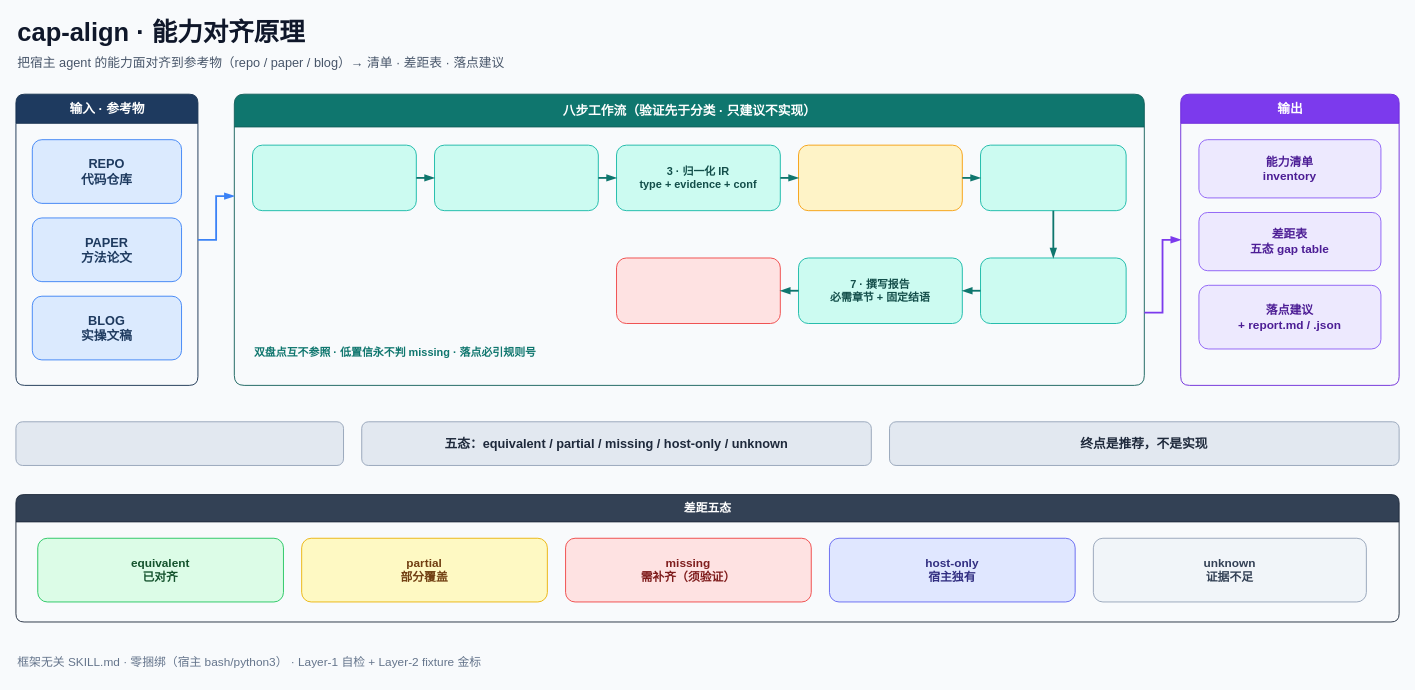
Image size: 1415x690. Some labels were removed from this diagram. The shapes that lost their labels are listed below. From the top down, each one's centre as x and y in pixels, then its label:
the point at 334,177: 1 · 盘点参考物 CLI / 模块 / 文档 / 指纹
the point at 516,177: 2 · 盘点宿主面 扫描 + 自审 + 询问
the point at 880,177: 4 · 交叉验证 grep / 读产物 spec
the point at 1053,177: 5 · 差距分类 五态 × 三来源
the point at 698,290: 8 · 自检门 8 项 · 任一 fail 回炉
the point at 1053,290: 6 · 落点建议 skill / tool / 扩既有 / runner / 跳过
the point at 179,443: 框架无关 · 可插拔 · 零捆绑
